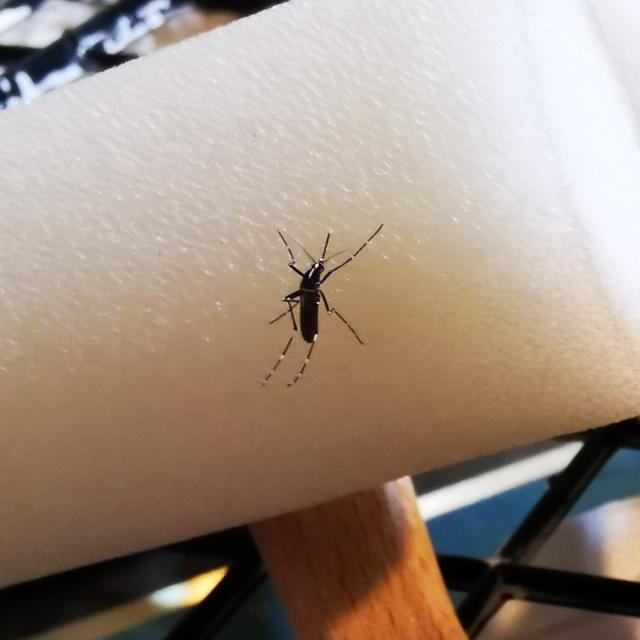albopictus: (250, 217, 385, 389)
